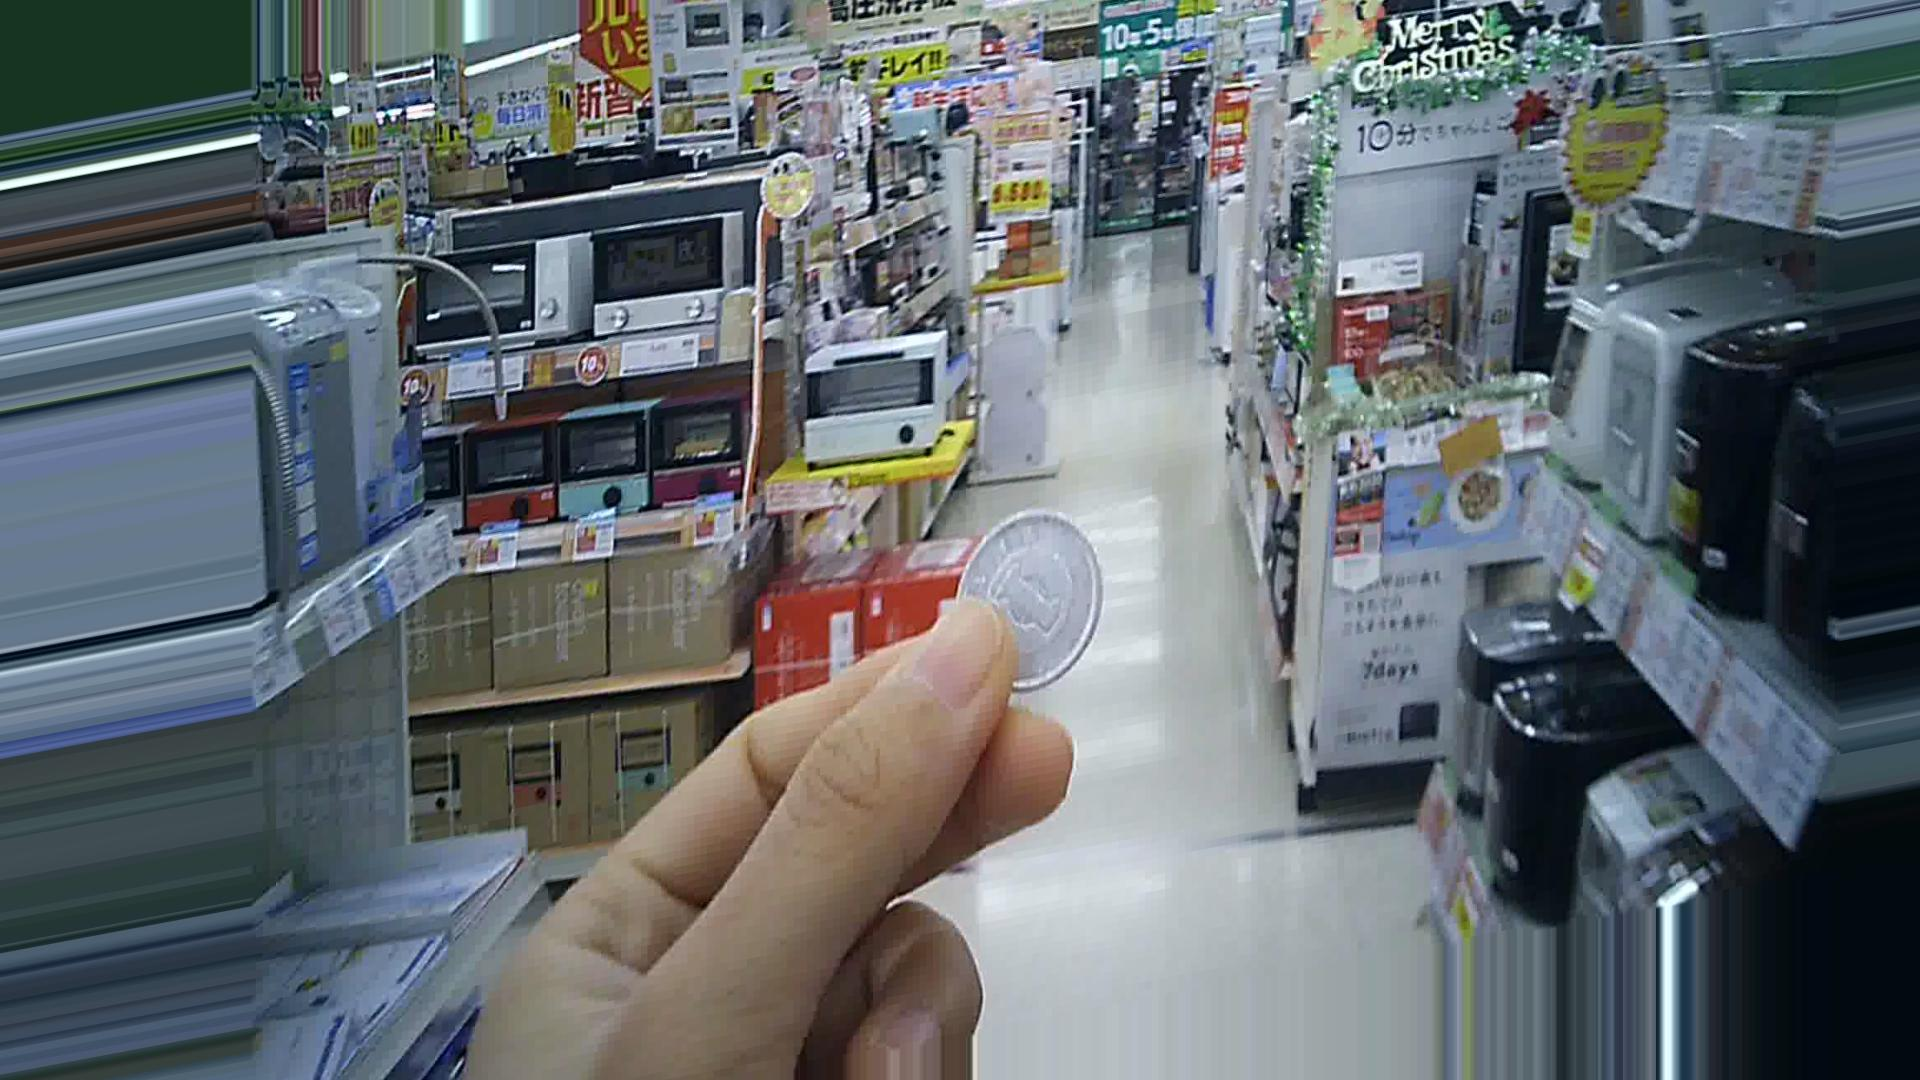1 Yen: (948, 514, 1106, 694)
